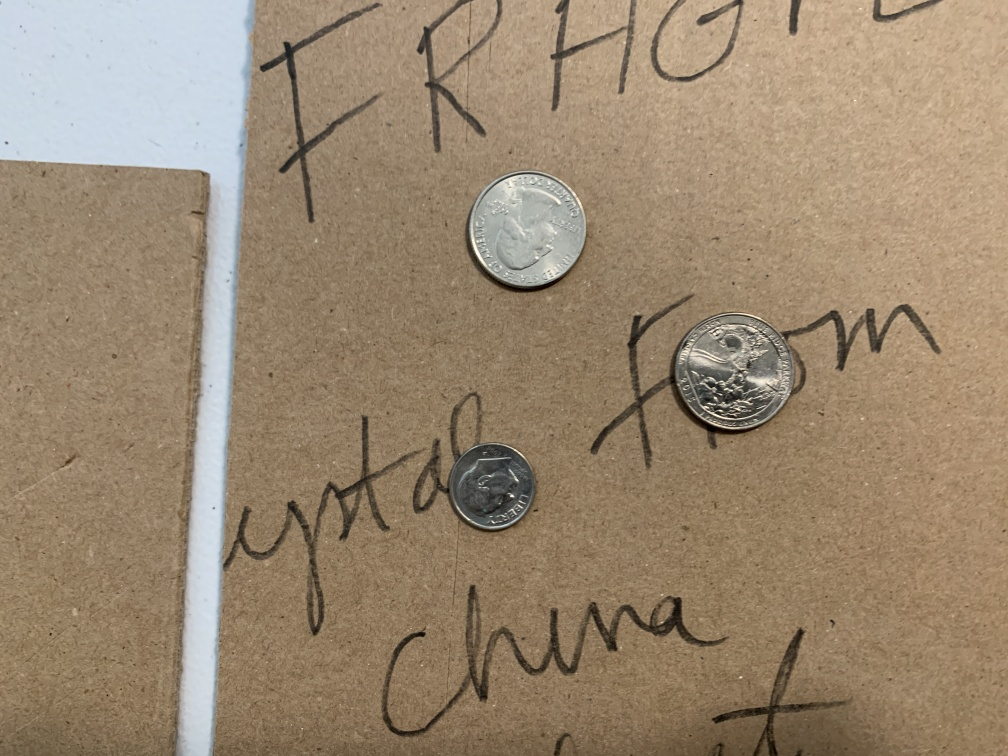dime: (443, 441, 537, 541)
quarter: (461, 167, 591, 300), (668, 310, 797, 441)
